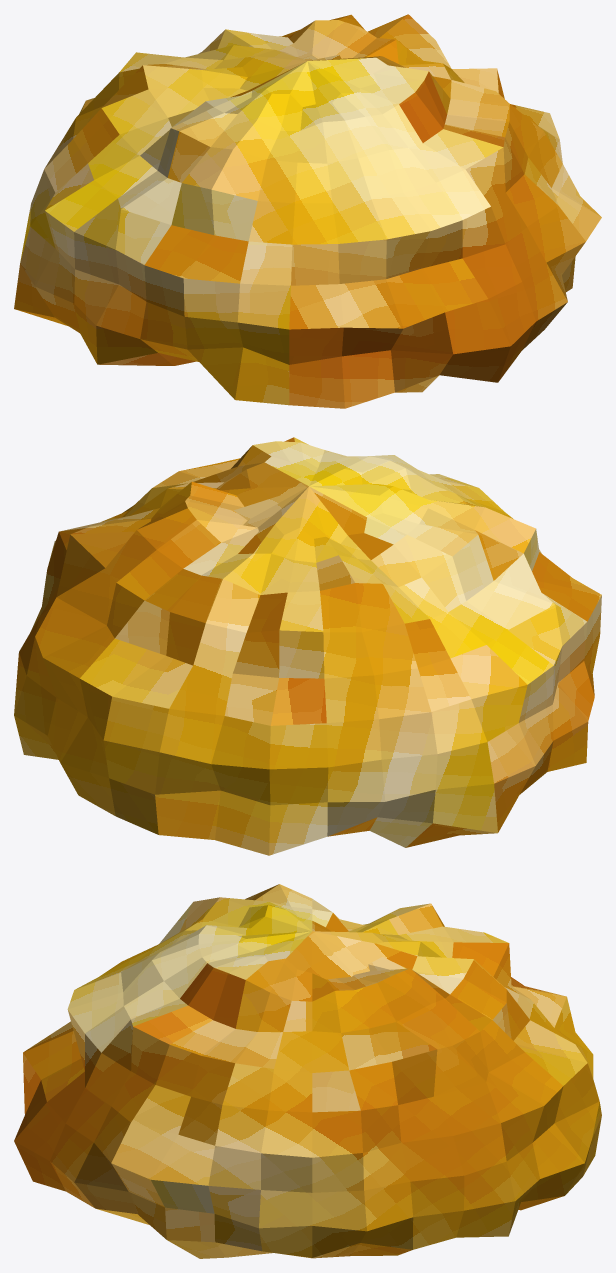
Rendered from AL_Cocada.fbx.
The picture shows the model from 3 angles, top to bottom: view 1: azimuth 30°, elevation 25°; view 2: azimuth 150°, elevation 25°; view 3: azimuth 270°, elevation 25°; orthographic projection. The views are drawn at different scales.
Parts seen in each view (by area): view 1: Sphere; view 2: Sphere; view 3: Sphere.
Boxes of the visible parts, left/top/right/bottom form: Sphere: left=14, top=14, right=601, bottom=408; Sphere: left=14, top=437, right=601, bottom=855; Sphere: left=14, top=884, right=601, bottom=1258.
Bounding box in the file's own units: 0.1531 × 0.0754 × 0.1444.
